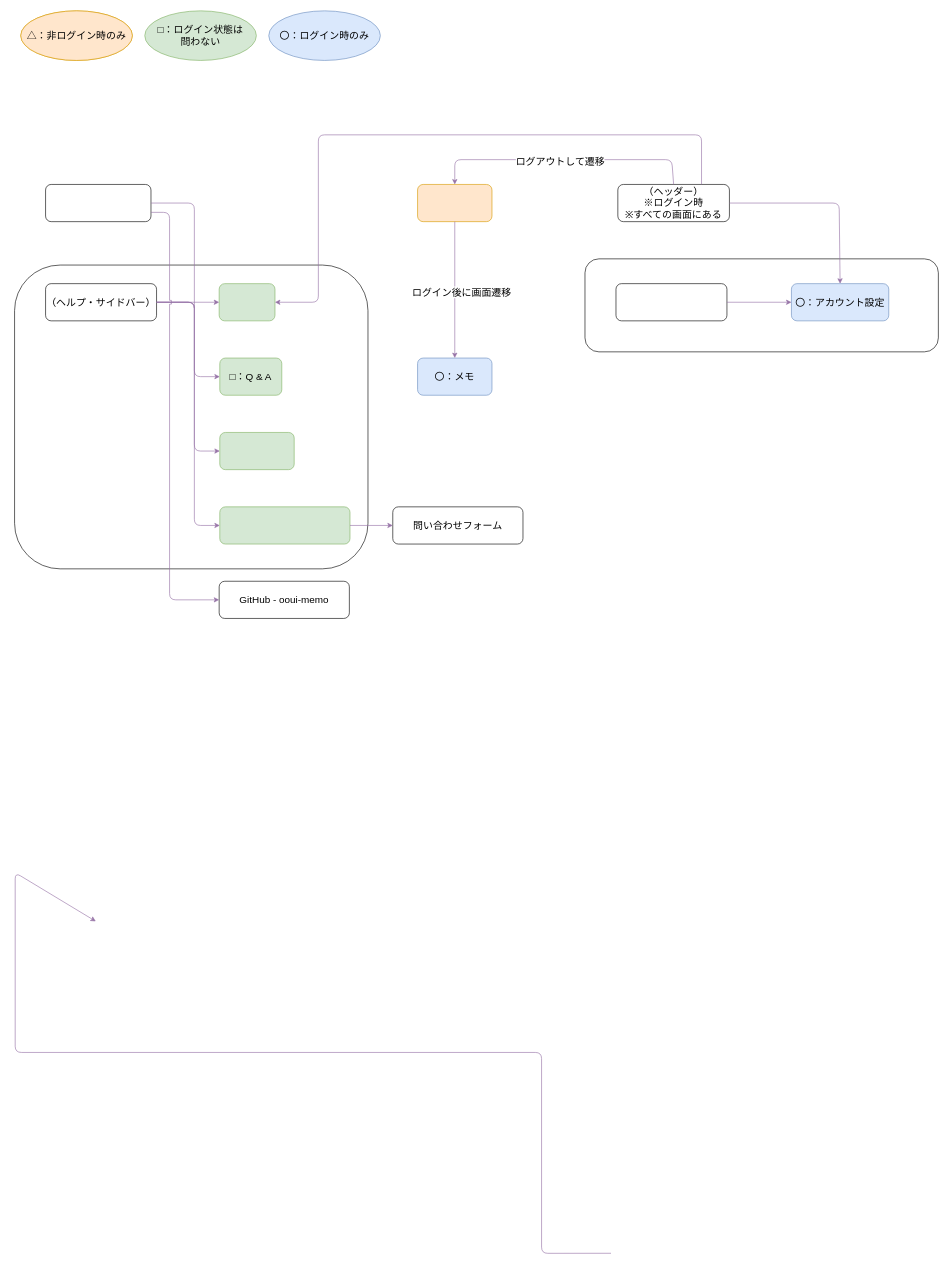
Some shapes in this 949 by 1269 pixel diagram are drawn without their labels. Each missing label, with the centre of its shape:
"□：プライバシーポリシー" goes at point (284, 525).
"□：利用規約" goes at point (256, 451).
"□：概要" goes at point (247, 302).
"△：ログイン" goes at point (454, 203).
"（フッター） ※メモ画面以外の画面にある" goes at point (98, 203).
"（設定・サイドバー）" goes at point (671, 302).
